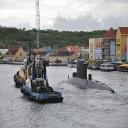submarine: (65, 56, 121, 97)
